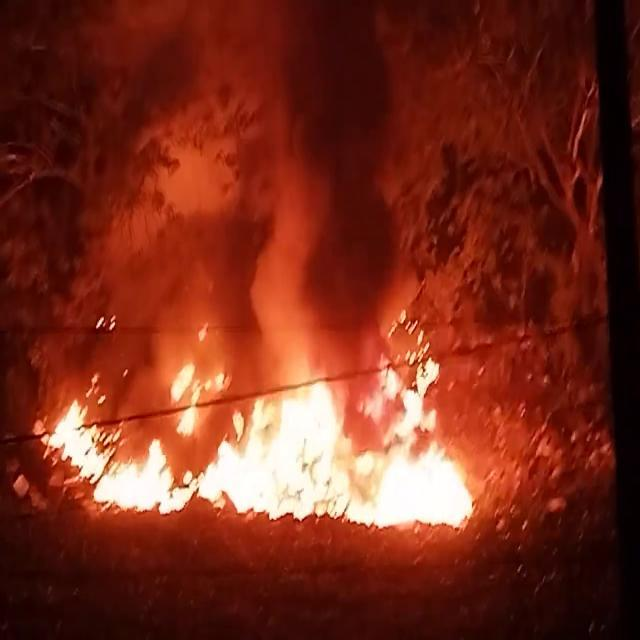Fire: (17, 330, 510, 532)
Smoke: (61, 0, 416, 375)
